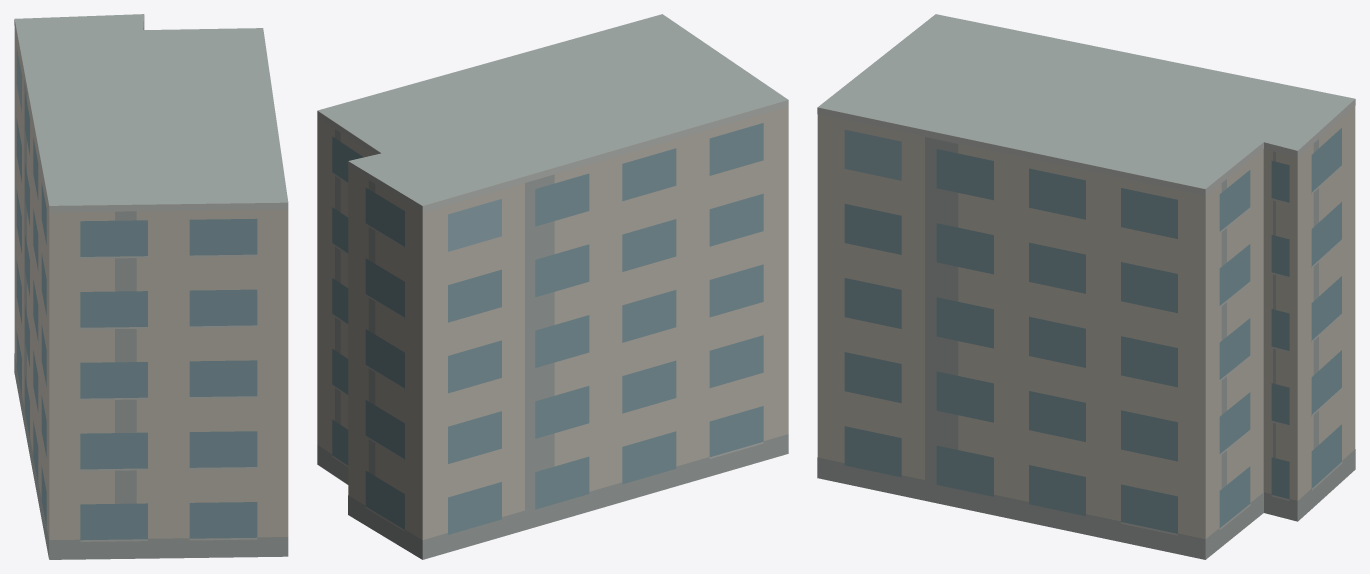
File: survey-upis-32885358.glb
3 renders of one model, left to right at view 1: azimuth 30°, elevation 25°; view 2: azimuth 150°, elevation 25°; view 3: azimuth 270°, elevation 25°, orthographic. The views are drawn at different scales.
Visible parts, largest first — view 1: survey-upis-32885358.tmp; view 2: survey-upis-32885358.tmp; view 3: survey-upis-32885358.tmp.
Boxes of the visible parts, <box> form: survey-upis-32885358.tmp: <box>14,14,288,559</box>; survey-upis-32885358.tmp: <box>317,14,788,559</box>; survey-upis-32885358.tmp: <box>817,14,1355,559</box>.
Size of the model in its own units: 13.29 by 13.1 by 17.24.
